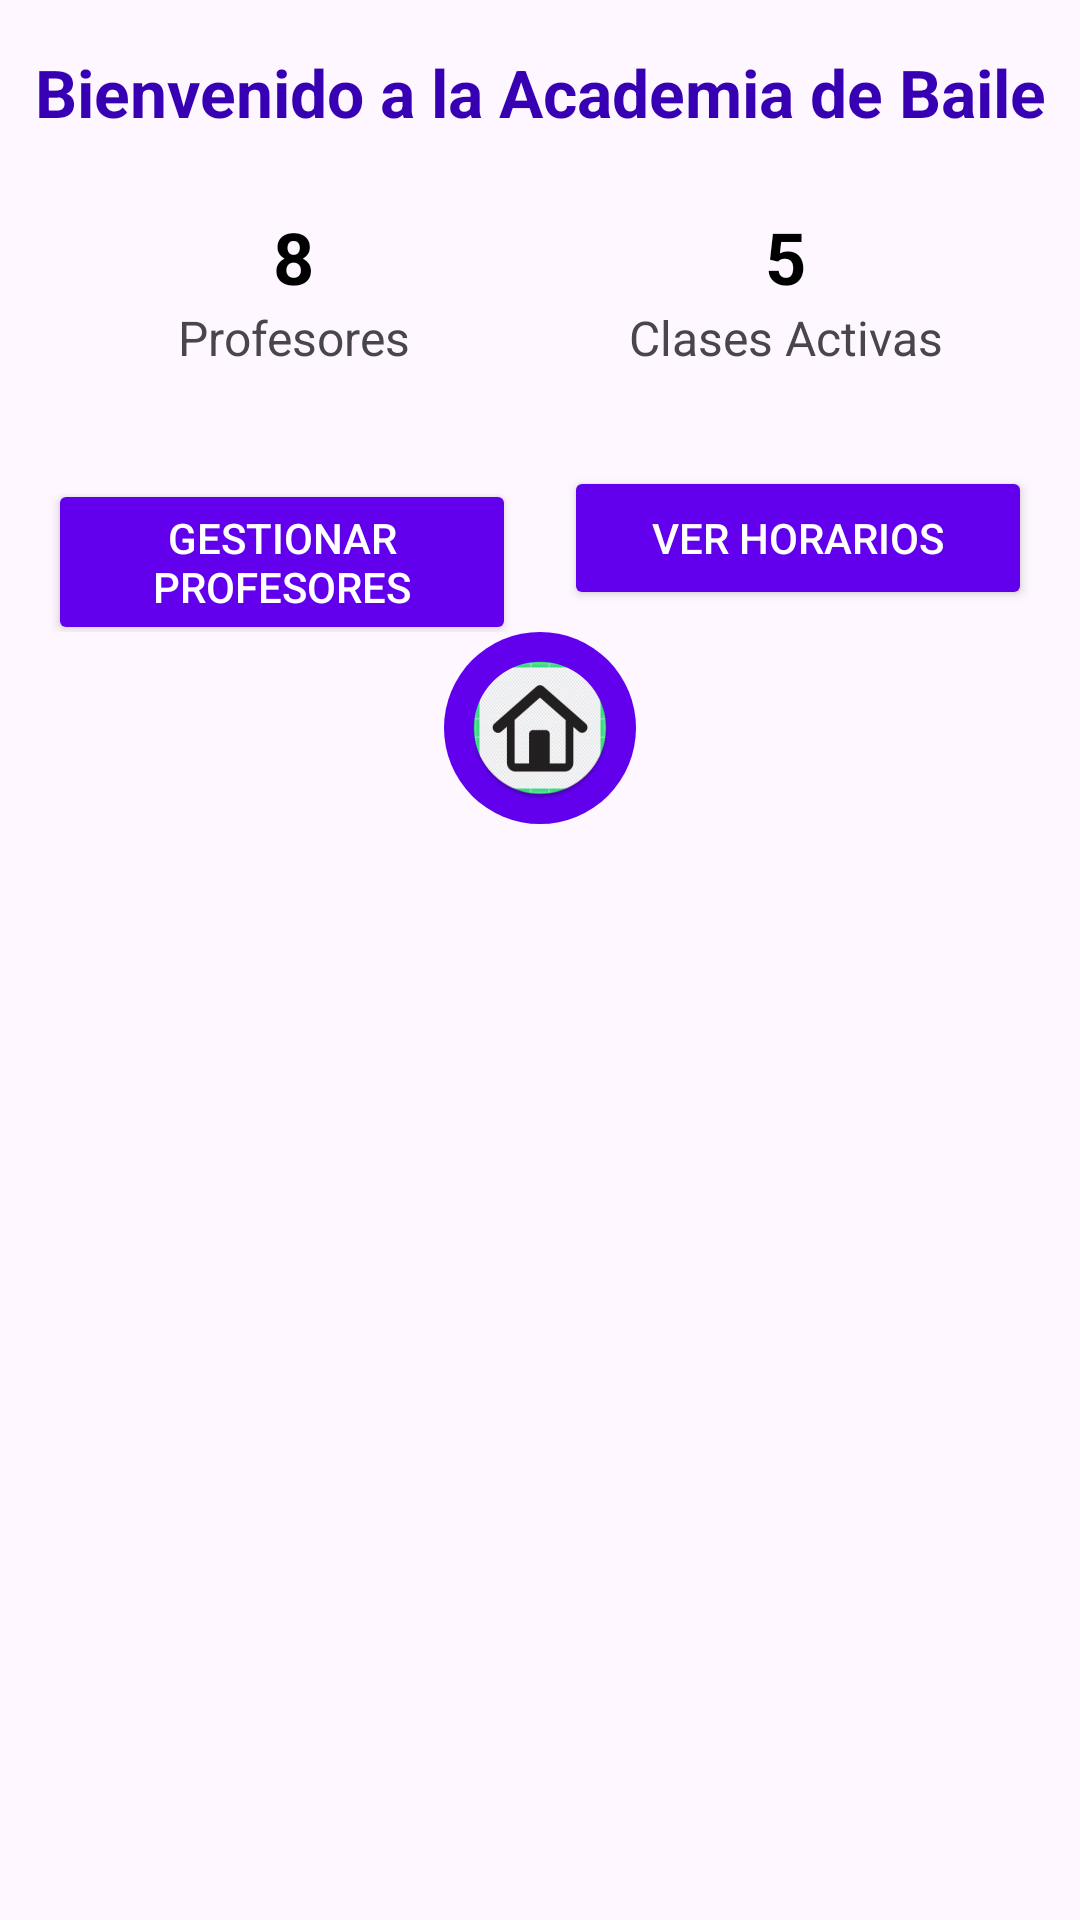

Screen size 1080w x 1920h. Icon name, then its center in pixels as point (x, y):
home round: point (540, 728)
